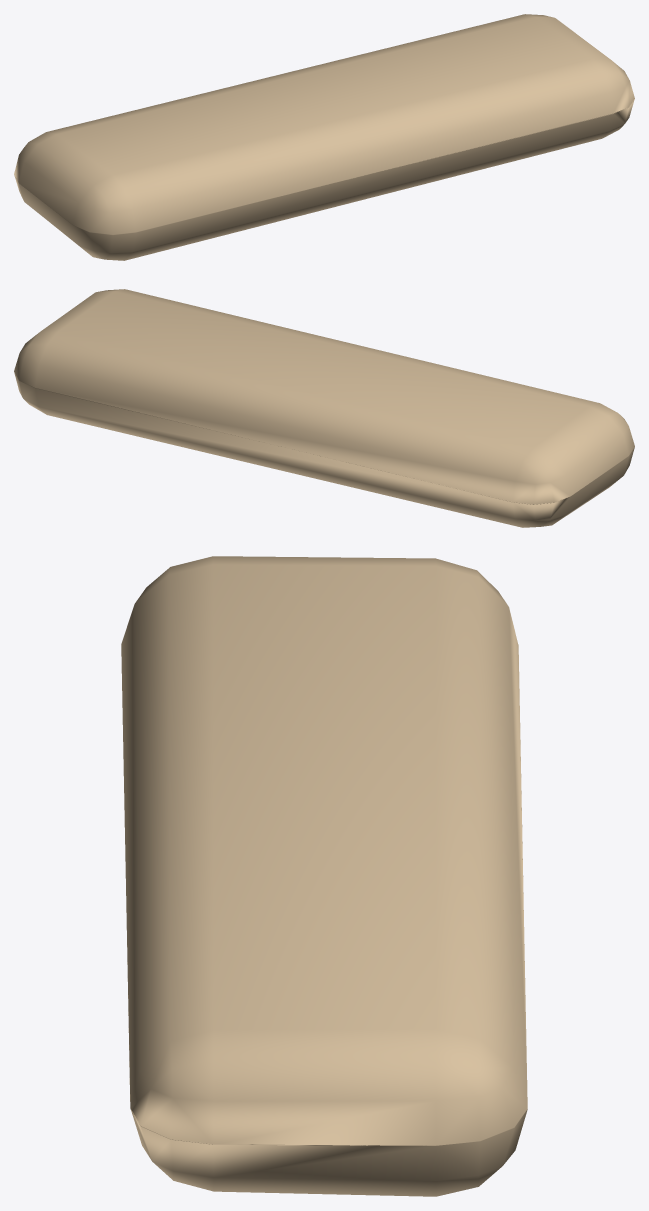
File: ABSCHLUSS_BODEN.glb
The picture shows the model from 3 angles, top to bottom: view 1: azimuth 30°, elevation 25°; view 2: azimuth 150°, elevation 25°; view 3: azimuth 270°, elevation 25°; orthographic projection. The views are drawn at different scales.
Visible parts, largest first — view 1: ABSCHLUSS_BODEN; view 2: ABSCHLUSS_BODEN; view 3: ABSCHLUSS_BODEN.
Part boxes in pixels (box(x1,y1,x2,y2)): ABSCHLUSS_BODEN: box(14, 14, 634, 260); ABSCHLUSS_BODEN: box(14, 289, 634, 527); ABSCHLUSS_BODEN: box(121, 556, 527, 1196).
Bounding box in the file's own units: 1.61 × 0.228 × 0.5114.
